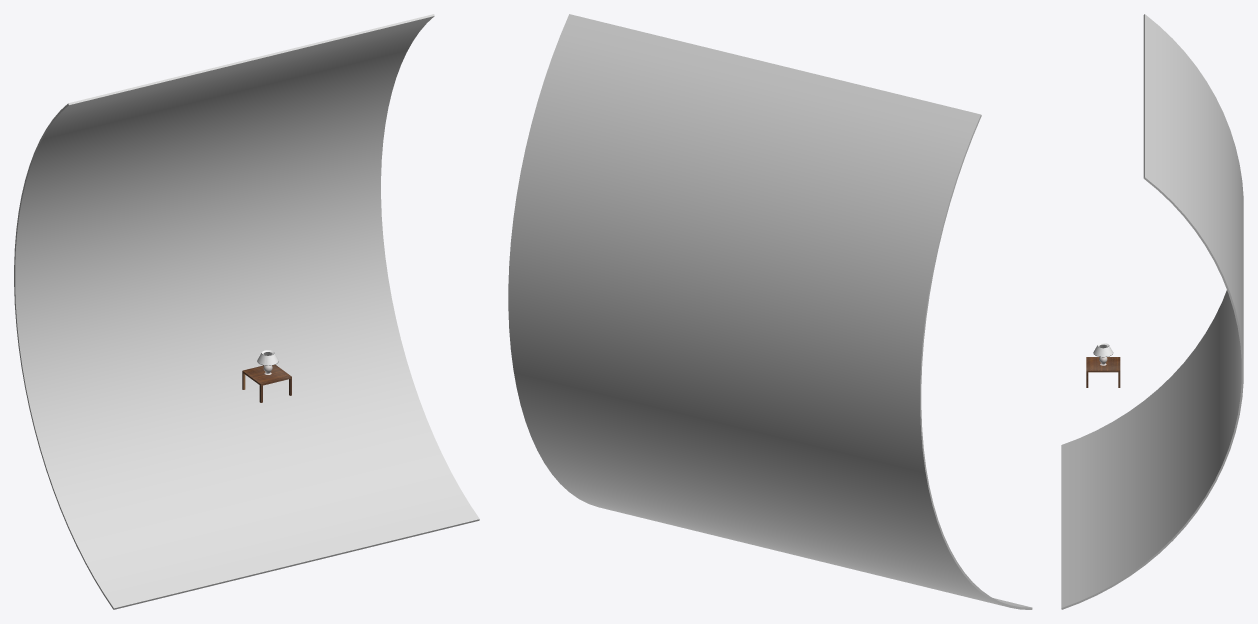
The model's file is lamp.fbx.
3 renders of one model, left to right at view 1: azimuth 30°, elevation 25°; view 2: azimuth 150°, elevation 25°; view 3: azimuth 270°, elevation 25°, orthographic. The views are drawn at different scales.
Parts seen in each view (by area): view 1: Background, Table; view 2: Background; view 3: Background, Table.
Boxes of the visible parts, box(x1,y1,x2,y2) form: Background: box(14, 14, 479, 609); Table: box(242, 364, 291, 402); Background: box(508, 14, 1032, 609); Background: box(1061, 14, 1243, 609); Table: box(1086, 357, 1120, 387).
Bounding box in the file's own units: 9272 × 11466 × 4384.
Materials: 4 (4 with a texture image).
